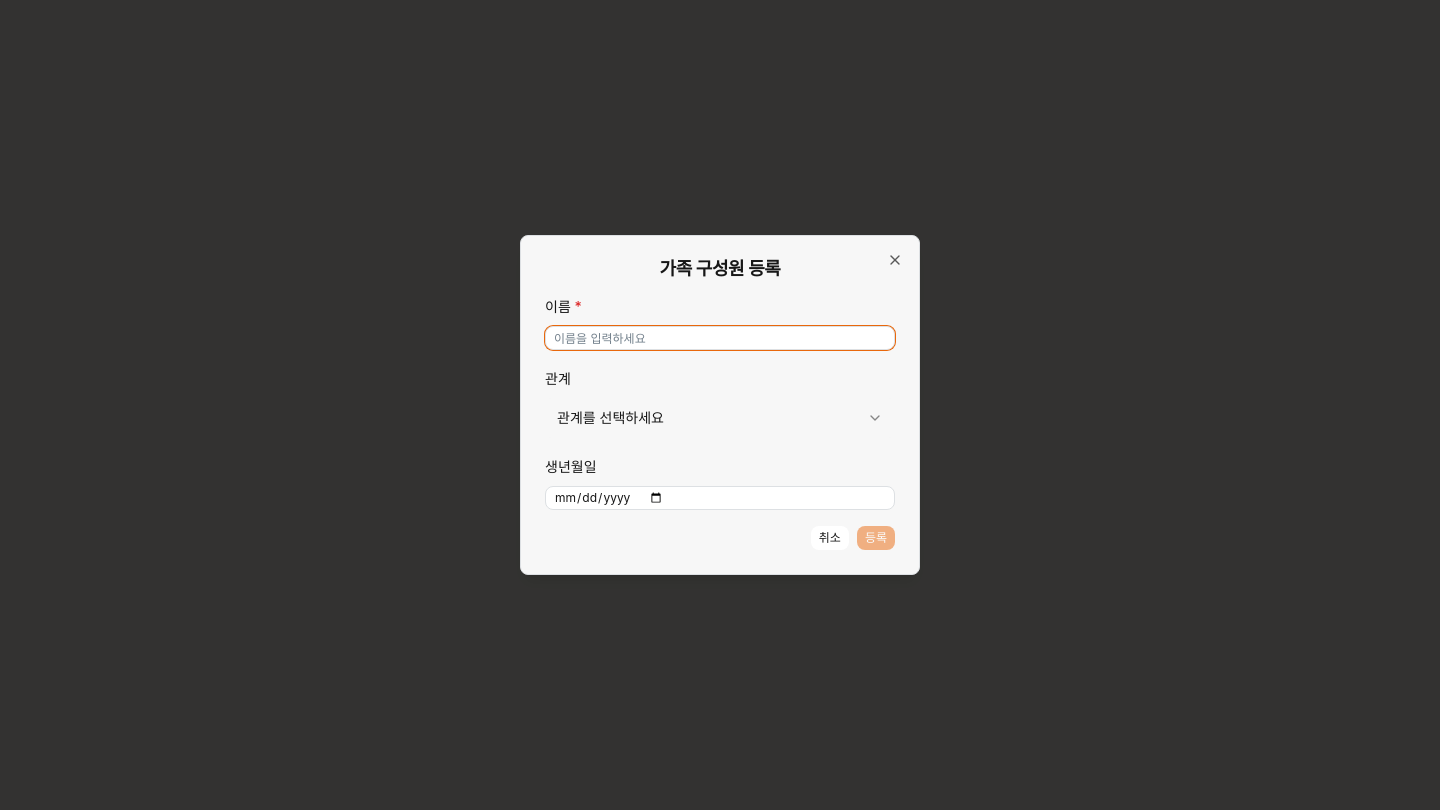
Test: CreateFamilyMemberModal › 이름을 입력하면 등록 버튼이 활성화된다
The image size is (1440, 810).
Step 1. Type "홍길동" into the field with placeholder "이름을 입력하세요" → x=720, y=338, box 545,326 -> 895,350
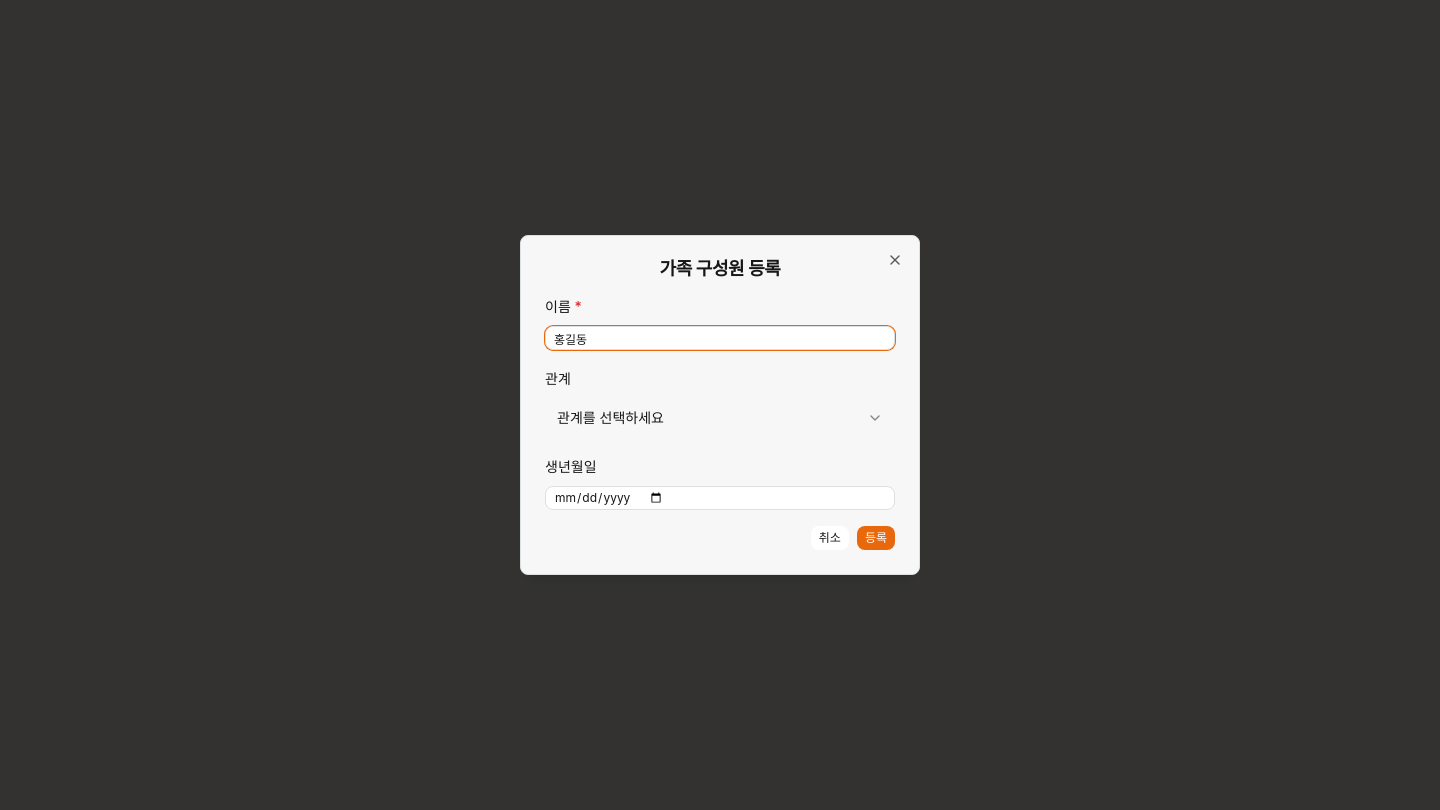
Check: the button "등록" is enabled, box 857,526 -> 895,550
